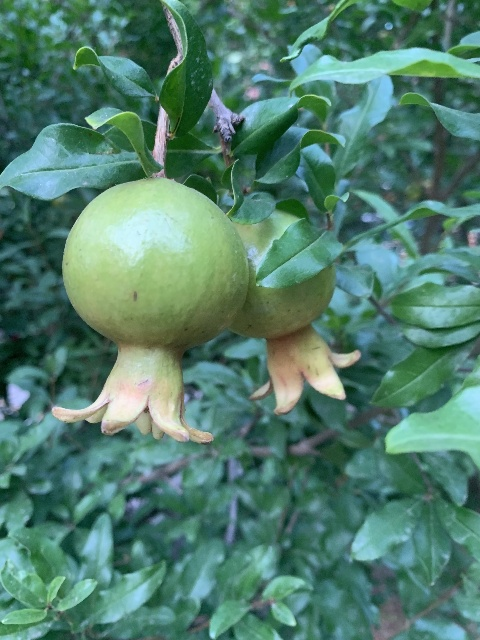mid-growth: (54, 177, 247, 444), (234, 210, 361, 415)
